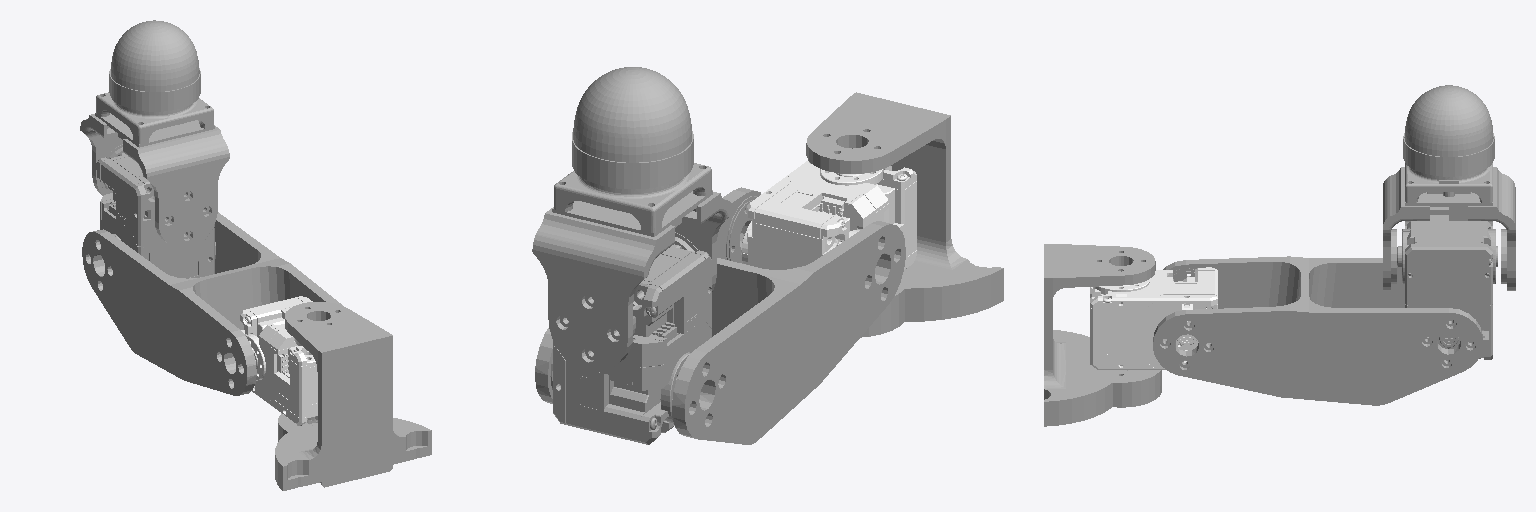
URDF robot description (DT_gripper_right):
<?xml version="1.0" encoding="utf-8"?>
<!-- This URDF was automatically created by SolidWorks to URDF Exporter! Originally created by [author] ([email redacted]) 
     Commit Version: 1.6.0-4-g7f85cfe  Build Version: 1.6.7995.38578
     For more information, please see http://wiki.ros.org/sw_urdf_exporter -->
<robot
  name="DT_gripper_right">
  <link
    name="Link_0_2">
    <inertial>
      <origin
        xyz="0 -6.93889390390723E-18 0.0150172297115083"
        rpy="0 0 0" />
      <mass
        value="0.035" />
      <inertia
        ixx="3.82502607446515E-05"
        ixy="5.63004985316599E-13"
        ixz="1.38024178340574E-21"
        iyy="2.55682822465902E-05"
        iyz="-2.99181481392226E-21"
        izz="3.01786195512601E-05" />
    </inertial>
    <visual>
      <origin
        xyz="0 0 0"
        rpy="0 0 0" />
      <geometry>
        <mesh
          filename="package://DT_gripper/meshes/Link_0_2.STL" />
      </geometry>
      <material
        name="">
        <color
          rgba="0.752941176470588 0.752941176470588 0.752941176470588 1" />
      </material>
    </visual>
    <collision>
      <origin
        xyz="0 0 0"
        rpy="0 0 0" />
      <geometry>
        <mesh
          filename="package://DT_gripper/meshes/Link_0_2.STL" />
      </geometry>
    </collision>
  </link>
  <link
    name="Link_5">
    <inertial>
      <origin
        xyz="0 0 0"
        rpy="0 0 0" />
      <mass
        value="0.105" />
      <inertia
        ixx="0.00551557251148511"
        ixy="-3.2539665913117E-06"
        ixz="5.9948811830428E-08"
        iyy="0.00037706444753596"
        iyz="5.19397616561902E-06"
        izz="0.00526985090101087" />
    </inertial>
    <visual>
      <origin
        xyz="0 0 0"
        rpy="0 0 0" />
      <geometry>
        <mesh
          filename="package://DT_gripper/meshes/Link_5.STL" />
      </geometry>
      <material
        name="">
        <color
          rgba="1 1 1 1" />
      </material>
    </visual>
    <collision>
      <origin
        xyz="0 0 0"
        rpy="0 0 0" />
      <geometry>
        <mesh
          filename="package://DT_gripper/meshes/Link_5.STL" />
      </geometry>
    </collision>
  </link>
  <joint
    name="Joint_5"
    type="continuous">
    <origin
      xyz="0 0.031 0.029"
      rpy="0 0 0" />
    <parent
      link="Link_0_2" />
    <child
      link="Link_5" />
    <axis
      xyz="0 0 1" />
  </joint>
  <link
    name="Link_6">
    <inertial>
      <origin
        xyz="6.69590480284477E-10 0.047312259543009 -0.00316696601621572"
        rpy="0 0 0" />
      <mass
        value="0.032" />
      <inertia
        ixx="3.00405223867073E-05"
        ixy="3.59327904026506E-13"
        ixz="-2.56522219181268E-13"
        iyy="1.76968982571648E-05"
        iyz="2.33648286999841E-07"
        izz="4.11020098914542E-05" />
    </inertial>
    <visual>
      <origin
        xyz="0 0 0"
        rpy="0 0 0" />
      <geometry>
        <mesh
          filename="package://DT_gripper/meshes/Link_6.STL" />
      </geometry>
      <material
        name="">
        <color
          rgba="0.752941176470588 0.752941176470588 0.752941176470588 1" />
      </material>
    </visual>
    <collision>
      <origin
        xyz="0 0 0"
        rpy="0 0 0" />
      <geometry>
        <mesh
          filename="package://DT_gripper/meshes/Link_6.STL" />
      </geometry>
    </collision>
  </link>
  <joint
    name="Joint_6"
    type="continuous">
    <origin
      xyz="0 0.024 0"
      rpy="0 0 0" />
    <parent
      link="Link_5" />
    <child
      link="Link_6" />
    <axis
      xyz="1 0 0" />
  </joint>
  <link
    name="Link_7">
    <inertial>
      <origin
        xyz="0.000133910925717962 -0.150655801871864 0.0101036224635462"
        rpy="0 0 0" />
      <mass
        value="0.105" />
      <inertia
        ixx="0.00551557251148511"
        ixy="-3.2539665913117E-06"
        ixz="-5.99488118303941E-08"
        iyy="0.00037706444753596"
        iyz="-5.19397616561914E-06"
        izz="0.00526985090101087" />
    </inertial>
    <visual>
      <origin
        xyz="0 0 0"
        rpy="0 0 0" />
      <geometry>
        <mesh
          filename="package://DT_gripper/meshes/Link_7.STL" />
      </geometry>
      <material
        name="">
        <color
          rgba="0.752941176470588 0.752941176470588 0.752941176470588 1" />
      </material>
    </visual>
    <collision>
      <origin
        xyz="0 0 0"
        rpy="0 0 0" />
      <geometry>
        <mesh
          filename="package://DT_gripper/meshes/Link_7.STL" />
      </geometry>
    </collision>
  </link>
  <joint
    name="Joint_7"
    type="continuous">
    <origin
      xyz="0 0.095522 0.000754"
      rpy="0 0 0" />
    <parent
      link="Link_6" />
    <child
      link="Link_7" />
    <axis
      xyz="1 0 0" />
  </joint>
  <link
    name="Grip_2">
    <inertial>
      <origin
        xyz="1.87532538436924E-05 1.46755248140451E-05 0.0363332648225437"
        rpy="0 0 0" />
      <mass
        value="0.065" />
      <inertia
        ixx="7.71543996261288E-06"
        ixy="2.60756284790869E-10"
        ixz="-1.58733850085364E-09"
        iyy="4.43641994241609E-06"
        iyz="-1.64596780858671E-10"
        izz="7.87085677073125E-06" />
    </inertial>
    <visual>
      <origin
        xyz="0 0 0"
        rpy="0 0 0" />
      <geometry>
        <mesh
          filename="package://DT_gripper/meshes/Grip_2.STL" />
      </geometry>
      <material
        name="">
        <color
          rgba="0.752941176470588 0.752941176470588 0.752941176470588 1" />
      </material>
    </visual>
    <collision>
      <origin
        xyz="0 0 0"
        rpy="0 0 0" />
      <geometry>
        <mesh
          filename="package://DT_gripper/meshes/Grip_2.STL" />
      </geometry>
    </collision>
  </link>
  <joint
    name="Joint_8"
    type="continuous">
    <origin
      xyz="0 0 0.024"
      rpy="0 0 0" />
    <parent
      link="Link_7" />
    <child
      link="Grip_2" />
    <axis
      xyz="0 1 0" />
  </joint>
  <link
    name="EE_2">
    <inertial>
      <origin
        xyz="0 0 0"
        rpy="0 0 0" />
      <mass
        value="0" />
      <inertia
        ixx="0"
        ixy="0"
        ixz="0"
        iyy="0"
        iyz="0"
        izz="0" />
    </inertial>
  </link>
  <joint
    name="Joint_9"
    type="fixed">
    <origin
      xyz="0 0 0.055"
      rpy="0 0 0" />
    <parent
      link="Grip_2" />
    <child
      link="EE_2" />
  </joint>
</robot>

--- Facts derived from the render (not from the file) ---
Views: 3 orthographic renders of the robot side by side, from view 1: azimuth 30°, elevation 25°; view 2: azimuth 150°, elevation 25°; view 3: azimuth 270°, elevation 25°.
Robot: DT_gripper_right — 6 links, 5 joints (4 continuous, 1 fixed); root link Link_0_2; default pose: all joints at 0.
Links seen in each view (by area): view 1: Link_6, Grip_2, Link_0_2, Link_7, Link_5; view 2: Grip_2, Link_6, Link_0_2, Link_7, Link_5; view 3: Link_6, Grip_2, Link_0_2, Link_7, Link_5.
Link boxes in pixels (x1,y1,x2,y2): Link_6: [82, 212, 342, 395]; Grip_2: [80, 20, 229, 247]; Link_0_2: [275, 302, 431, 490]; Link_7: [96, 153, 214, 278]; Link_5: [240, 296, 317, 425]; Grip_2: [532, 67, 732, 371]; Link_6: [535, 187, 905, 444]; Link_0_2: [806, 92, 1003, 337]; Link_7: [553, 244, 711, 444]; Link_5: [741, 161, 916, 269]; Link_6: [1153, 256, 1482, 405]; Grip_2: [1383, 85, 1515, 290]; Link_0_2: [1044, 244, 1161, 426]; Link_7: [1397, 215, 1497, 360]; Link_5: [1090, 267, 1217, 369].
Size in the robot's own frame: 0.0627 by 0.1718 by 0.1236 metres.
5 mesh visuals loaded from 5 distinct referenced files (5 binary STL).